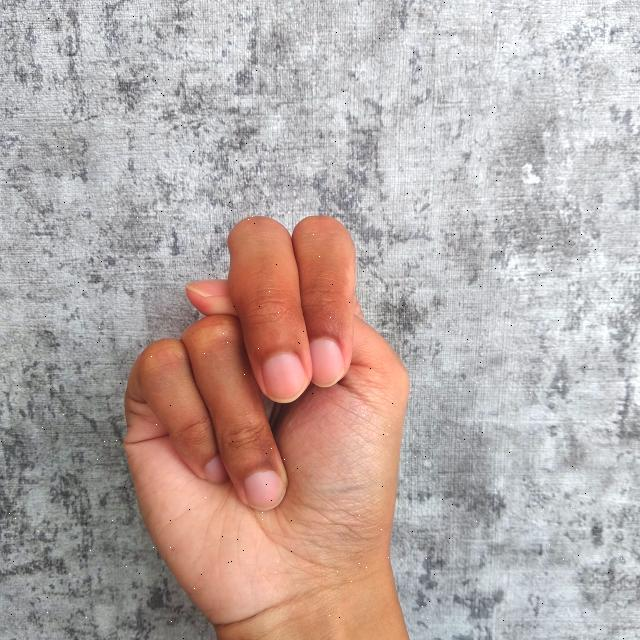M: (116, 208, 426, 640)
